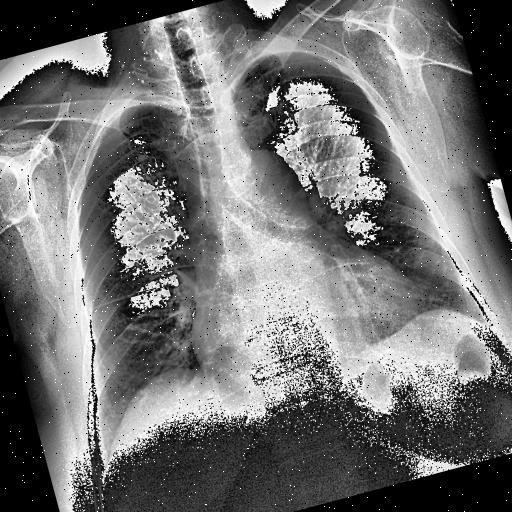0- Aortic enlargement: (221, 138, 317, 260), (214, 142, 314, 244), (225, 140, 314, 240)
3- Cardiomegaly: (176, 246, 438, 400), (182, 258, 434, 390), (187, 263, 438, 389)
9- Other lesion: (106, 32, 170, 92)
